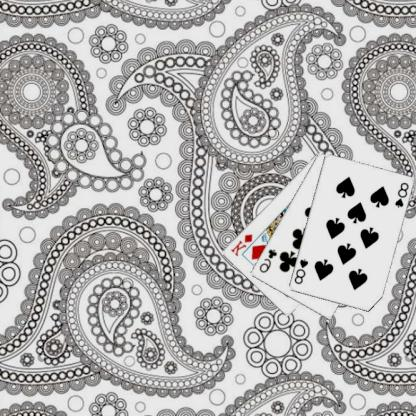8S: (393, 180, 412, 209), (293, 256, 311, 286)
9C: (258, 246, 280, 274)
KD: (230, 231, 255, 257)
